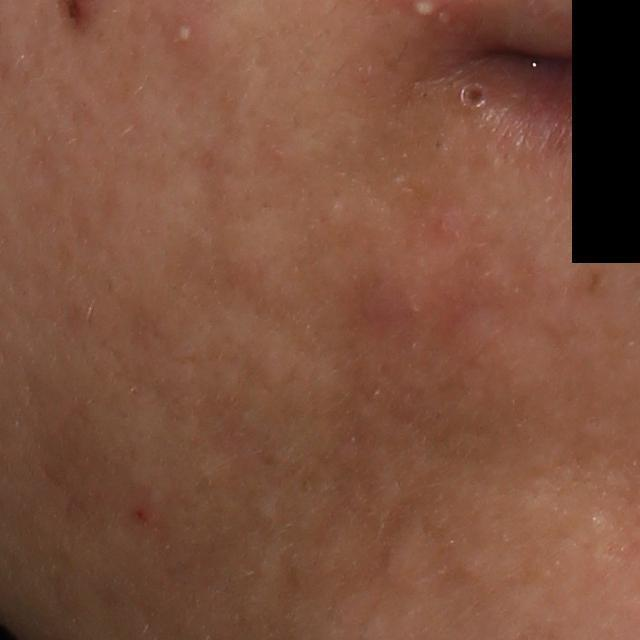comedo: (453, 73, 500, 119)
hypertrophic_scar: (214, 209, 302, 308)
pustule: (167, 11, 200, 52)
